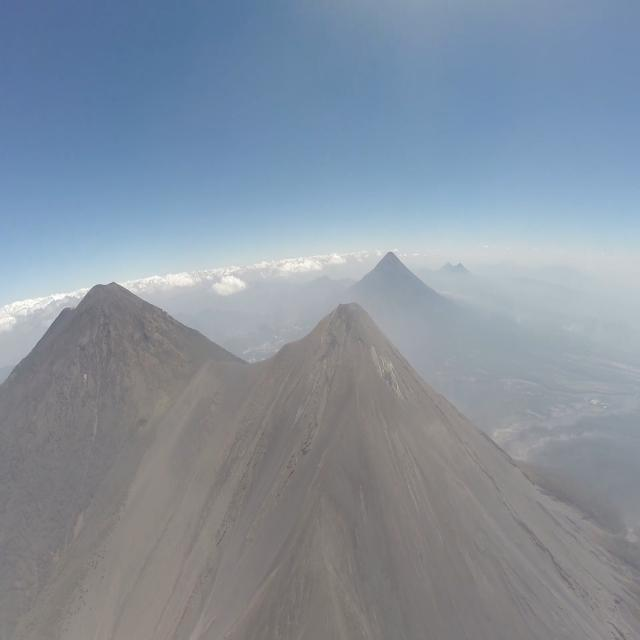Summit: (266, 298, 434, 405)
